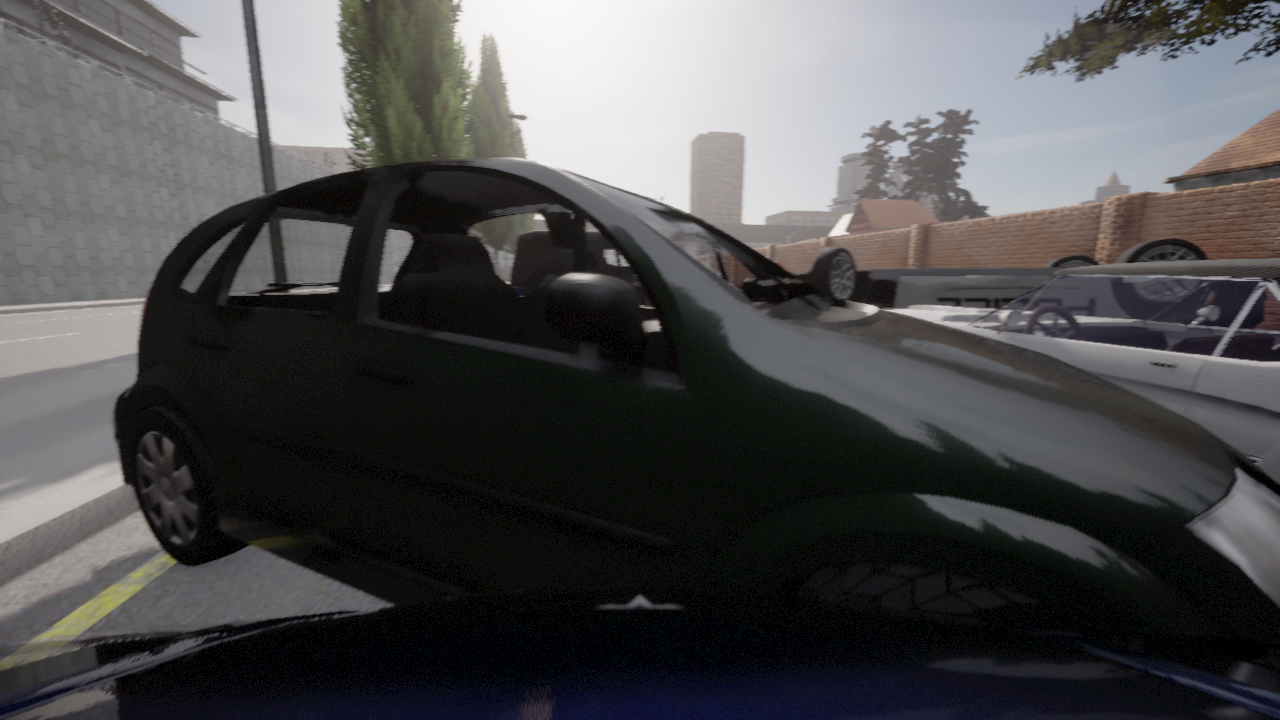cyclist: (112, 158, 1279, 644), (0, 588, 1279, 719), (880, 258, 1279, 483), (791, 238, 1207, 308)
pedestrian: (776, 258, 782, 267)
